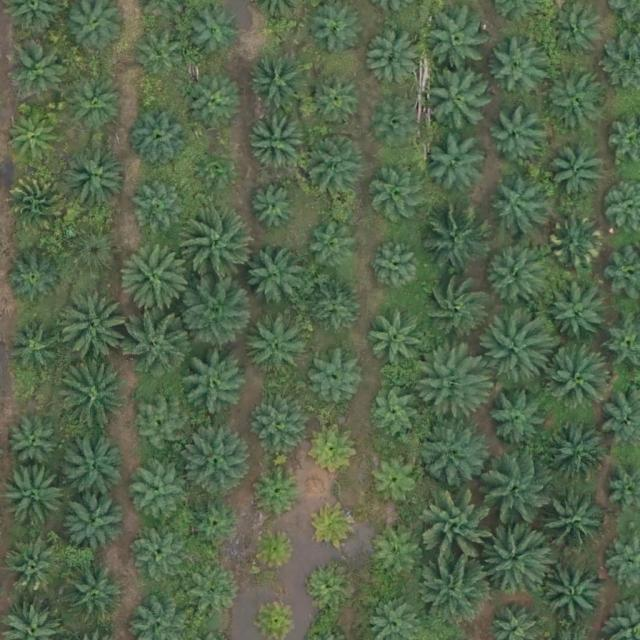Healthy: (422, 68, 493, 139), (537, 491, 607, 562), (545, 346, 615, 417), (484, 318, 554, 389), (482, 522, 552, 593), (422, 555, 492, 626), (426, 496, 496, 567), (420, 274, 490, 345), (422, 208, 492, 279), (184, 211, 254, 282), (180, 279, 250, 350), (180, 348, 251, 418), (181, 425, 252, 495), (124, 308, 195, 378), (58, 294, 128, 365), (55, 365, 126, 435), (485, 457, 555, 527), (417, 417, 487, 487), (417, 345, 487, 415), (122, 243, 192, 313), (544, 563, 607, 626), (247, 112, 310, 175), (244, 313, 307, 376), (130, 108, 193, 171), (64, 489, 127, 552), (545, 424, 607, 487), (548, 283, 610, 346), (485, 383, 547, 446), (430, 133, 492, 196), (367, 311, 429, 374), (301, 133, 363, 196), (244, 247, 306, 310), (63, 144, 125, 207), (61, 438, 123, 501), (64, 563, 126, 626), (3, 468, 65, 531), (6, 37, 68, 100), (63, 72, 125, 135), (249, 51, 311, 114), (430, 10, 492, 73), (545, 69, 607, 132), (482, 247, 544, 309), (487, 34, 549, 96), (368, 239, 423, 295), (188, 497, 243, 552), (188, 571, 243, 626), (548, 146, 603, 201), (488, 108, 543, 163), (489, 181, 544, 236), (373, 171, 428, 226), (308, 282, 363, 337), (307, 216, 362, 271), (64, 227, 119, 282), (5, 318, 60, 373), (366, 452, 421, 507), (369, 529, 424, 584), (252, 394, 307, 449), (131, 469, 186, 524), (132, 527, 187, 582), (133, 184, 188, 239), (5, 112, 60, 167), (8, 251, 63, 306), (8, 412, 63, 467), (133, 29, 188, 84), (186, 6, 241, 61), (310, 74, 365, 129), (368, 388, 422, 443), (307, 351, 361, 406), (135, 400, 189, 455), (5, 541, 59, 596), (190, 79, 244, 134), (367, 33, 421, 88), (548, 6, 602, 61)
Small: (251, 185, 298, 232), (256, 467, 303, 514), (303, 563, 350, 610), (376, 102, 423, 149), (195, 150, 234, 189)
Yellow: (9, 173, 71, 235), (549, 218, 604, 273), (251, 527, 298, 574), (312, 503, 359, 550), (312, 427, 359, 474)
